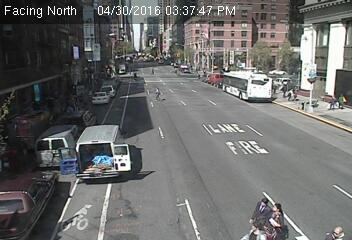neg: (286, 27, 301, 48), (230, 76, 244, 95), (90, 76, 103, 93), (104, 143, 116, 159), (161, 22, 173, 37), (261, 24, 273, 39), (233, 21, 244, 35), (321, 74, 331, 88), (202, 149, 212, 163), (137, 122, 147, 135), (187, 178, 197, 191), (208, 71, 218, 83), (179, 109, 189, 121), (272, 168, 281, 181), (71, 86, 80, 98), (313, 41, 322, 53), (235, 106, 244, 118), (176, 80, 185, 92), (158, 160, 167, 171), (202, 126, 210, 137), (196, 20, 204, 31), (279, 133, 287, 144), (317, 164, 325, 175), (119, 29, 127, 39), (224, 133, 232, 143), (329, 127, 337, 137), (142, 194, 149, 204), (187, 58, 194, 67), (104, 38, 111, 47), (201, 91, 208, 100), (95, 159, 100, 166), (242, 144, 245, 148)
pos: (262, 198, 289, 233), (252, 193, 273, 220), (266, 210, 284, 234), (334, 90, 351, 112), (324, 91, 340, 112), (148, 83, 164, 104), (284, 84, 299, 104), (245, 221, 258, 238), (276, 78, 289, 95), (333, 223, 345, 239), (131, 69, 139, 79), (147, 66, 154, 75)
